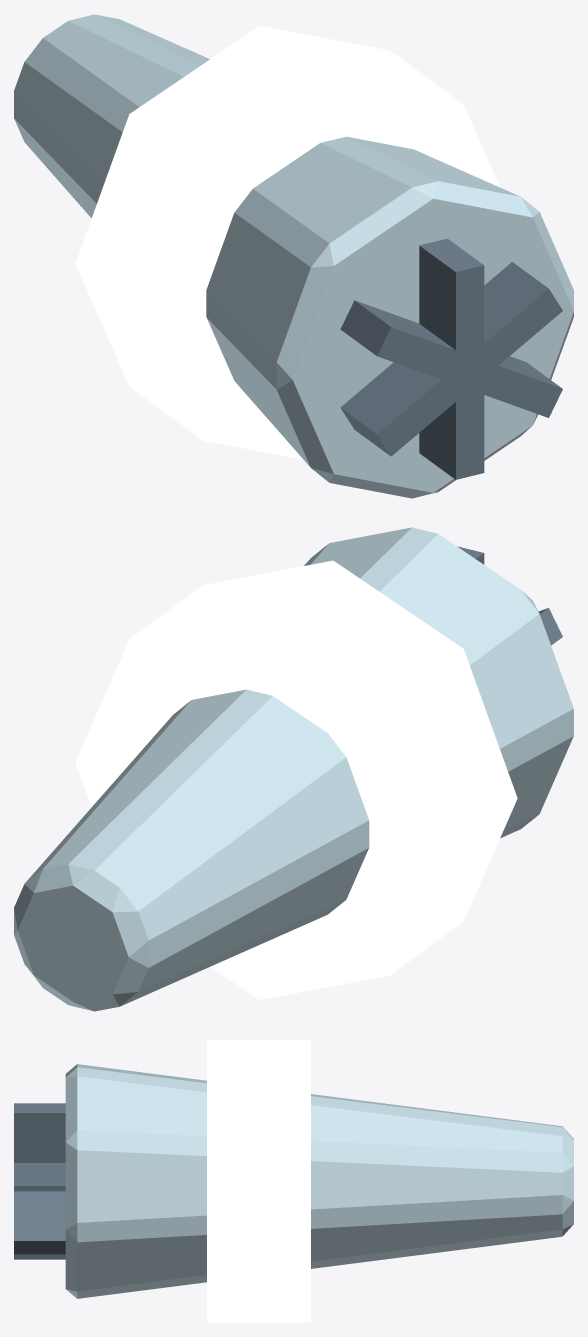
The model's file is frost_shell.glb.
3 views of the same model, one above another, from view 1: azimuth 30°, elevation 25°; view 2: azimuth 150°, elevation 25°; view 3: azimuth 270°, elevation 25° (orthographic). The views are drawn at different scales.
Parts seen in each view (by area): view 1: Body, Core, Fin1, Fin3, Fin2; view 2: Body, Core; view 3: Body, Core, Fin1, Fin2, Fin3.
Part boxes in pixels (x1,y1,x2,y2): Body: (14,14,573,498); Core: (75,26,499,459); Fin1: (419,238,484,479); Fin3: (340,262,562,456); Fin2: (340,300,562,417); Body: (14,527,573,1011); Core: (75,560,517,999); Body: (65,1064,573,1298); Core: (207,1040,310,1322); Fin1: (14,1103,65,1259); Fin2: (14,1191,65,1254); Fin3: (14,1163,65,1191).
Bounding box in the file's own units: 0.26 × 0.26 × 0.4848.
